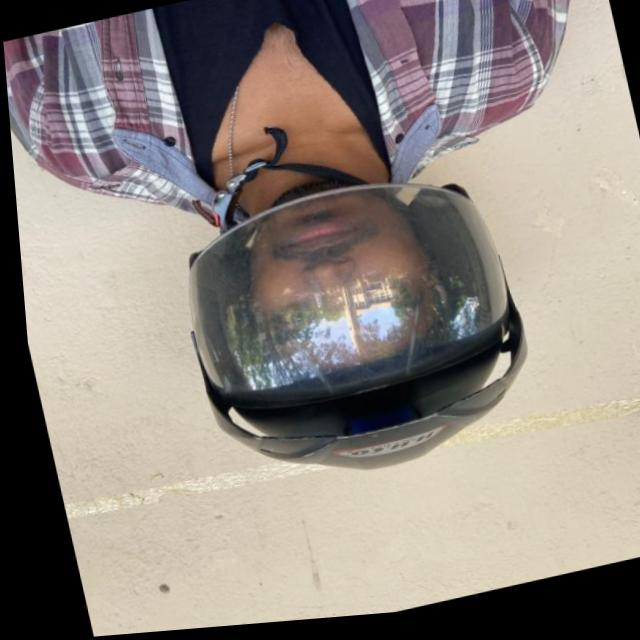WITH_HELMET: (145, 157, 548, 526)
